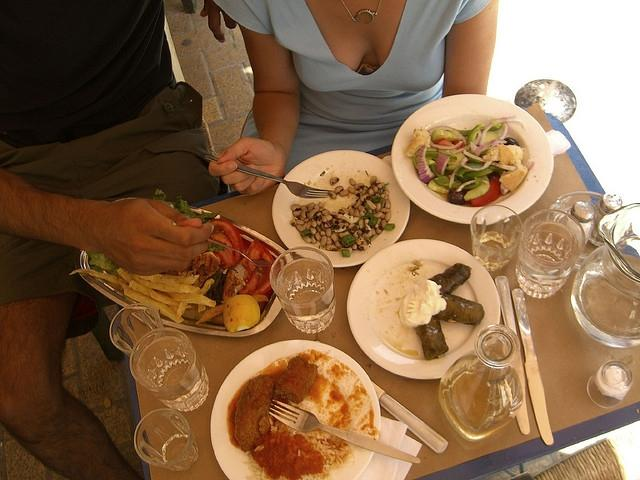onion: (479, 117, 526, 146), (418, 144, 436, 184), (475, 138, 507, 156), (460, 160, 492, 171), (431, 140, 464, 150), (436, 154, 449, 174)
tomato: (241, 238, 274, 300), (210, 219, 243, 269), (470, 179, 500, 206), (238, 269, 260, 296), (262, 288, 274, 302)
